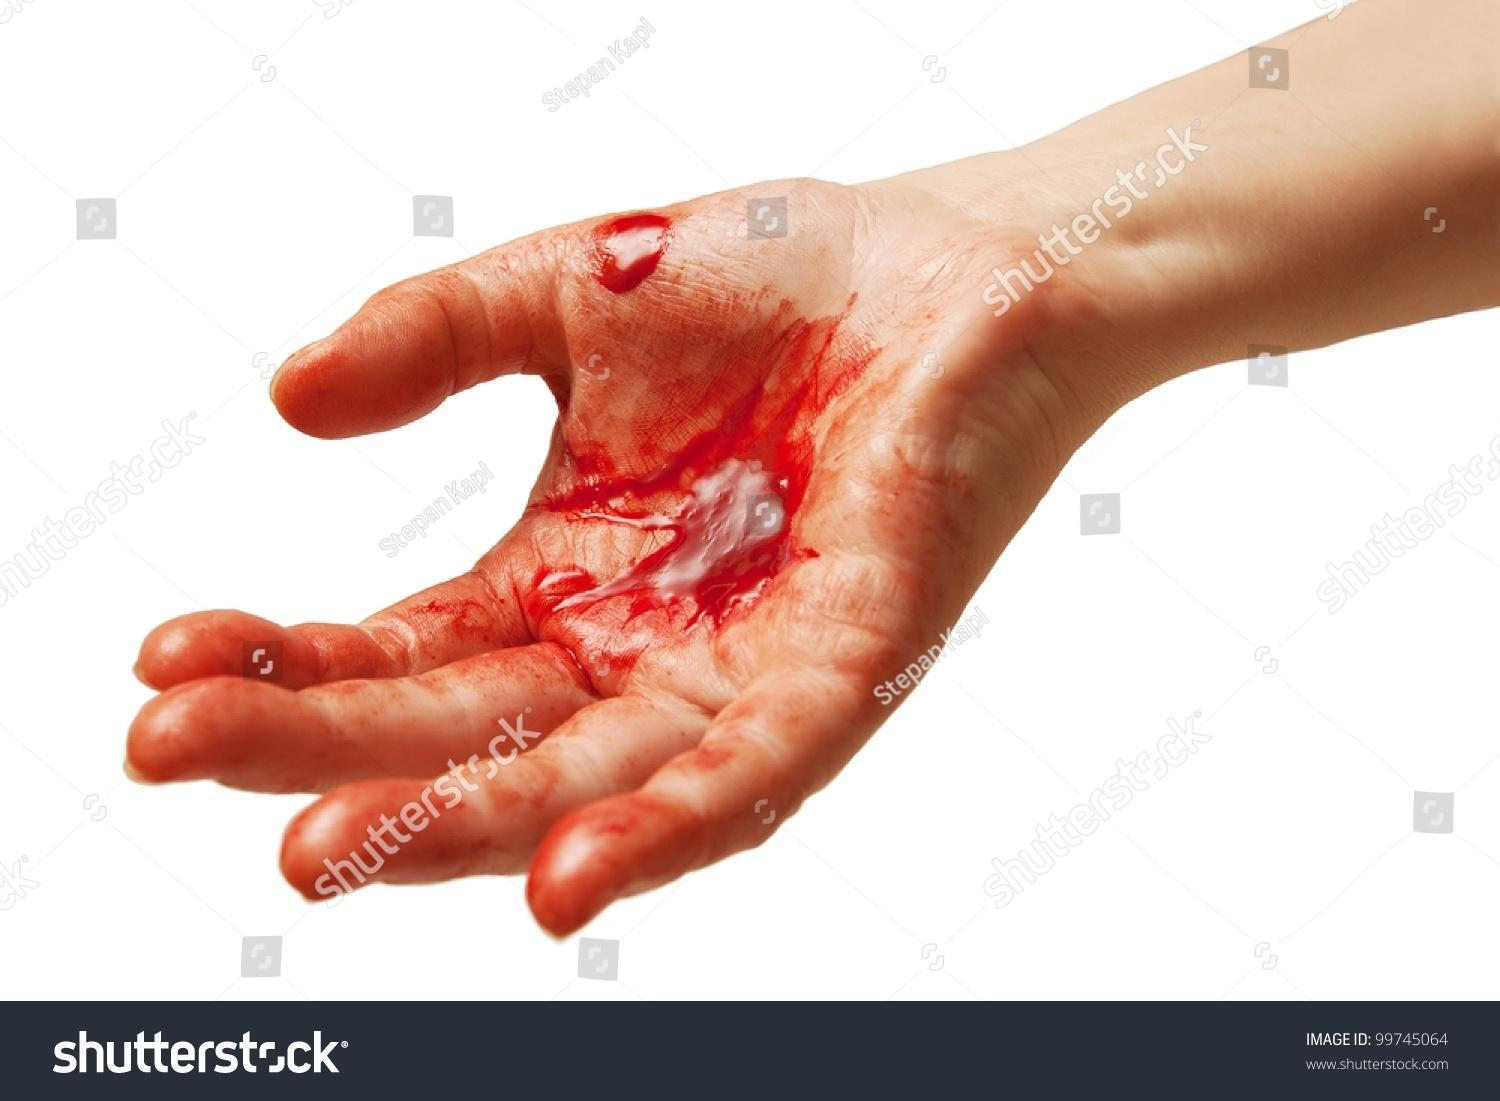Fire: (394, 209, 869, 701)
